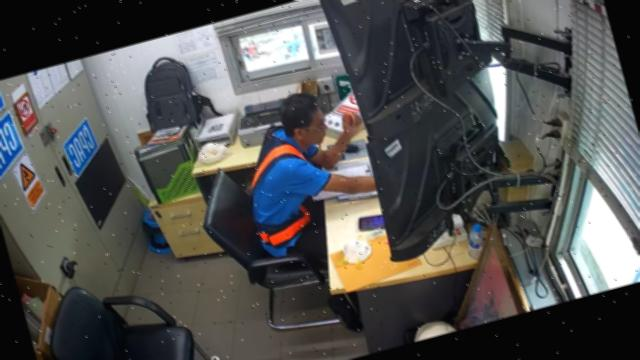Head: (279, 93, 327, 149)
People: (251, 93, 376, 265)
Phone: (358, 215, 385, 231)
